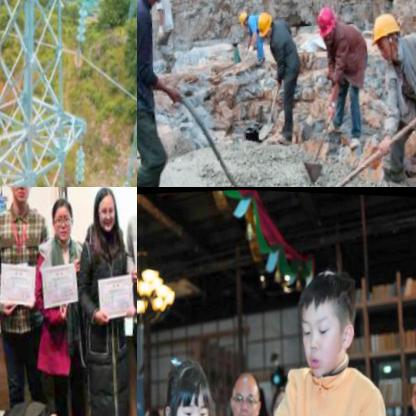head: (288, 259, 368, 375), (160, 353, 226, 416), (225, 362, 269, 416), (48, 195, 80, 243), (90, 187, 121, 233), (6, 187, 40, 206), (139, 402, 167, 416), (410, 370, 416, 408)
helmet: (368, 7, 407, 61), (316, 0, 341, 40), (256, 10, 275, 38), (236, 7, 252, 27)
